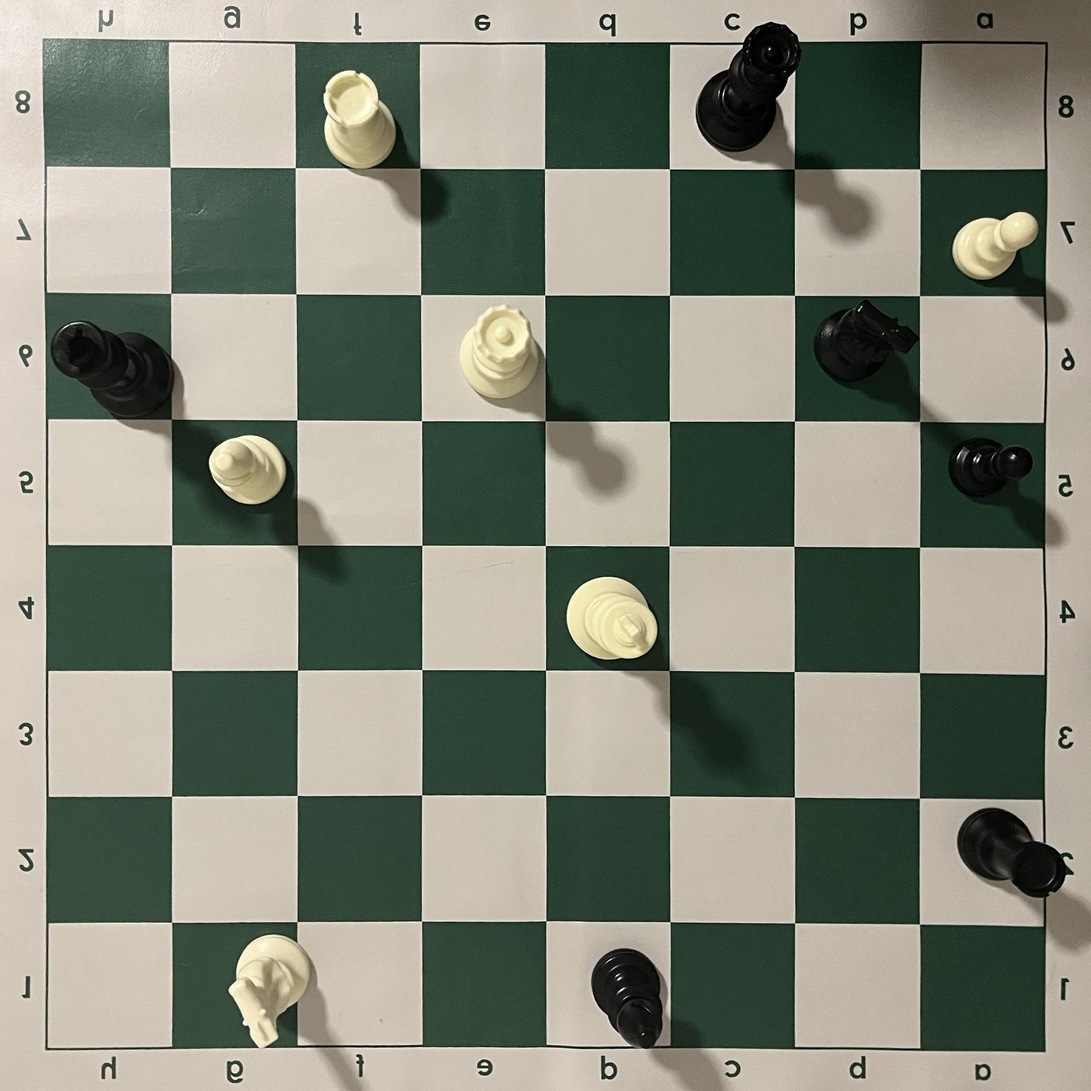black_bishop: (591, 948, 664, 1049)
black_king: (50, 320, 176, 419)
black_knight: (814, 299, 919, 384)
black_pawn: (948, 436, 1034, 500)
black_queen: (695, 21, 801, 153)
black_rook: (956, 807, 1068, 898)
white_bishop: (207, 435, 286, 506)
white_king: (566, 575, 659, 660)
white_knight: (228, 934, 311, 1049)
white_pawn: (951, 210, 1039, 280)
white_queen: (459, 304, 539, 401)
white_rook: (322, 69, 397, 169)
